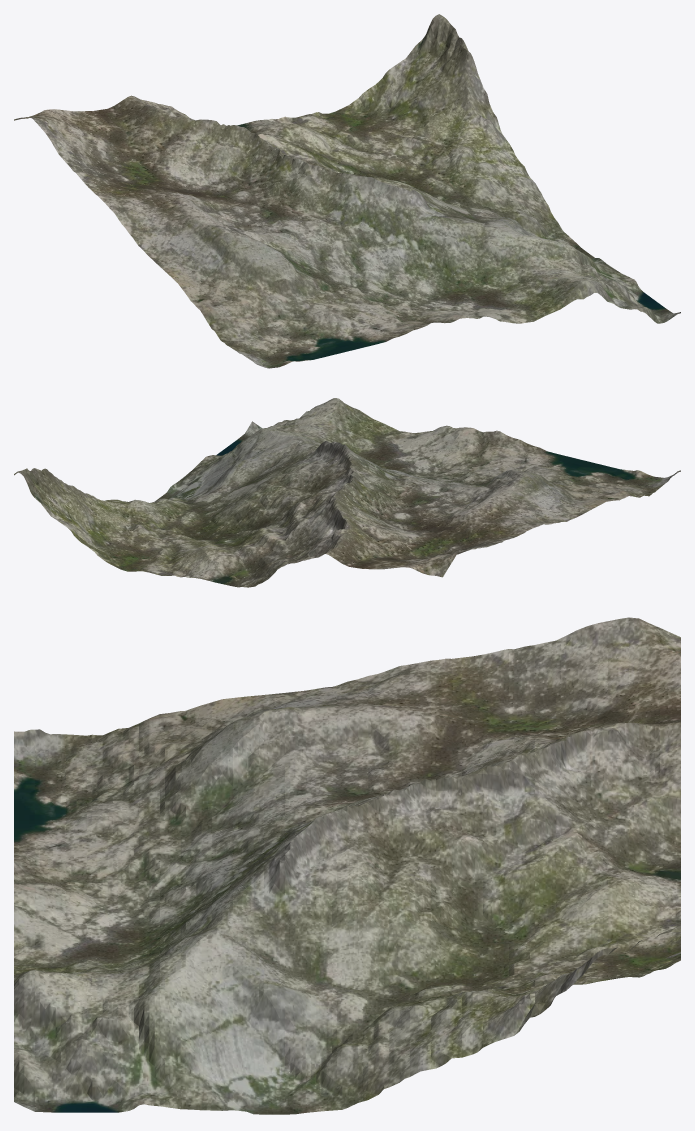
3 views of the same model, one above another, from view 1: azimuth 30°, elevation 25°; view 2: azimuth 150°, elevation 25°; view 3: azimuth 270°, elevation 25° (orthographic). The views are drawn at different scales.
Bounding box in the file's own units: 2000 × 657 × 1925.
1 material, 1 textured.
